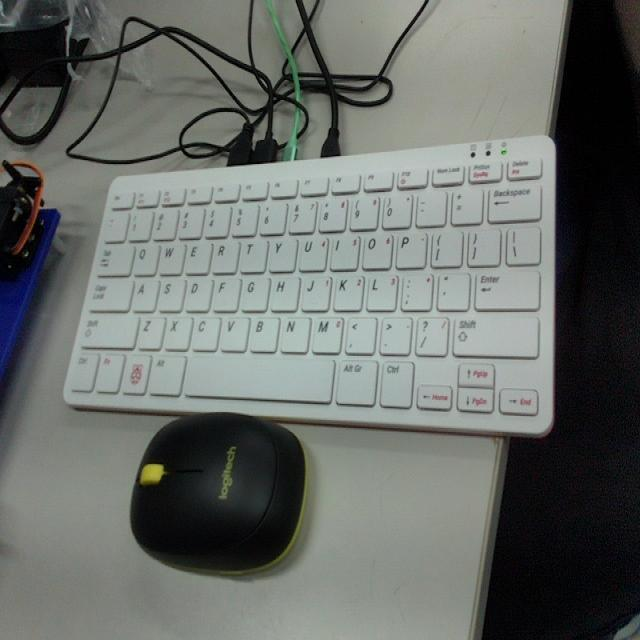keyboard: (64, 151, 551, 423)
